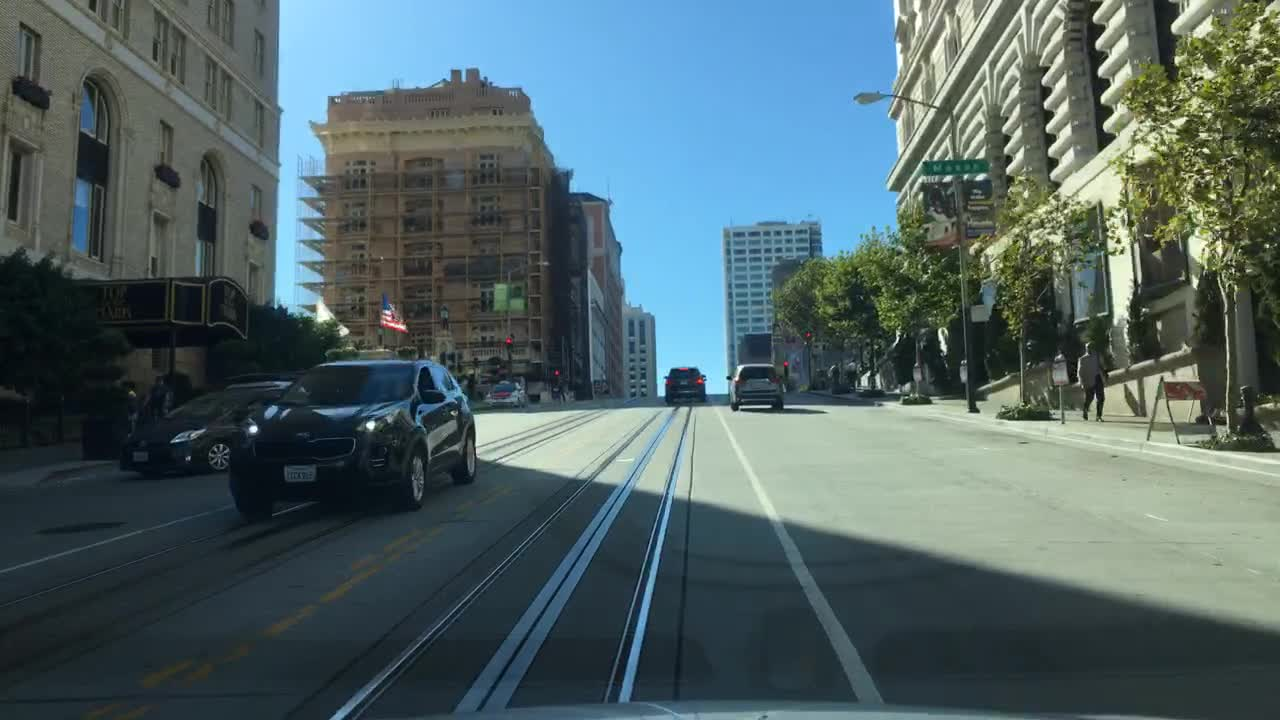car: (223, 355, 480, 521), (116, 376, 296, 481), (724, 362, 786, 415), (663, 366, 709, 402), (480, 378, 530, 411)
person: (1072, 339, 1111, 425), (119, 377, 142, 451), (146, 372, 167, 419), (157, 370, 178, 416), (826, 358, 844, 395), (844, 356, 861, 395), (569, 367, 588, 401), (463, 362, 478, 402), (550, 378, 564, 403), (458, 370, 466, 403), (856, 356, 870, 374)
traffic sign: (920, 156, 988, 177), (967, 303, 994, 324), (492, 282, 506, 313), (509, 299, 527, 317)
truck: (735, 331, 793, 392)
